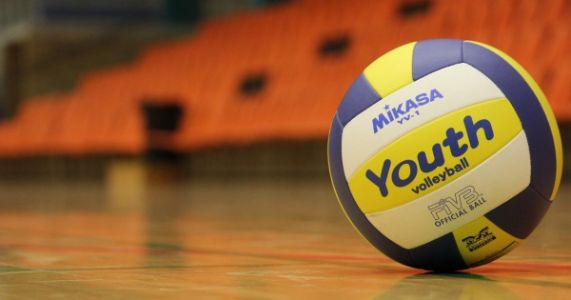voleibol: (327, 39, 564, 271)
